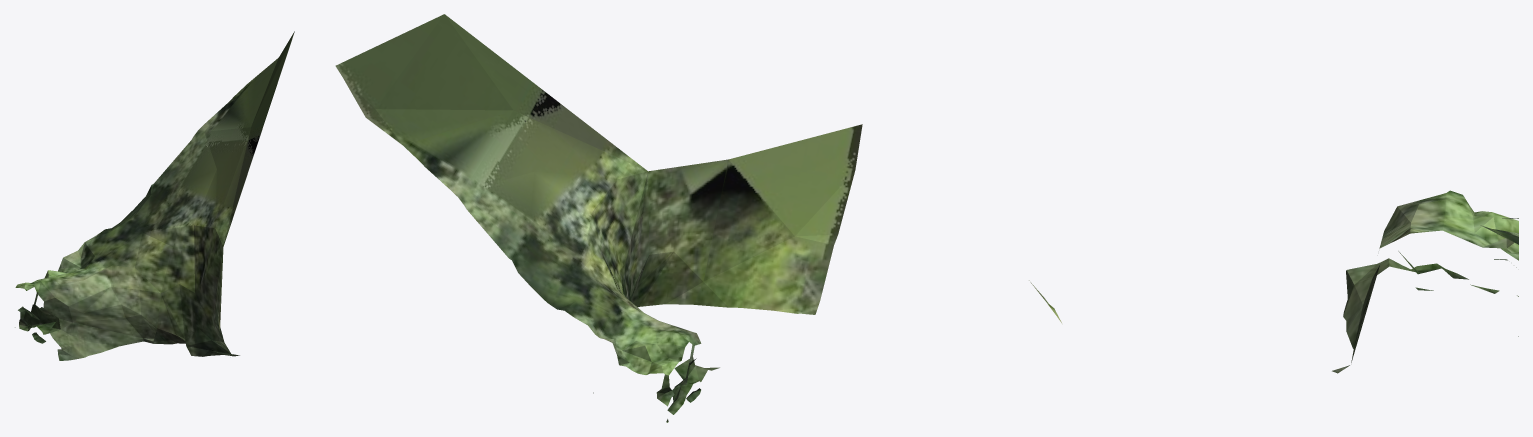
The picture shows the model from 3 angles, left to right: view 1: azimuth 30°, elevation 25°; view 2: azimuth 150°, elevation 25°; view 3: azimuth 270°, elevation 25°; orthographic projection. The views are drawn at different scales.
Size of the model in its own units: 43.27 by 38.26 by 43.91.
Materials: 2 (2 with a texture image).
